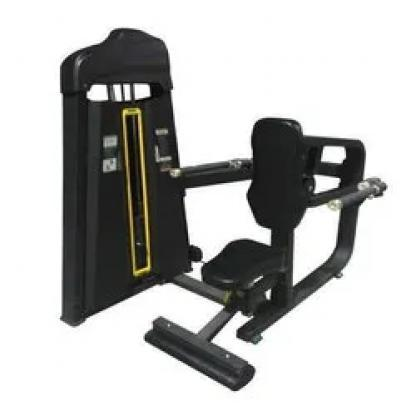seated dip machine: (63, 120, 390, 394)
